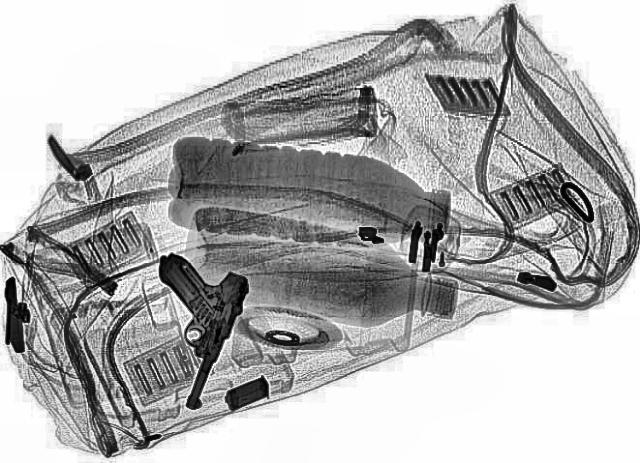Gun: (100, 253, 258, 409)
